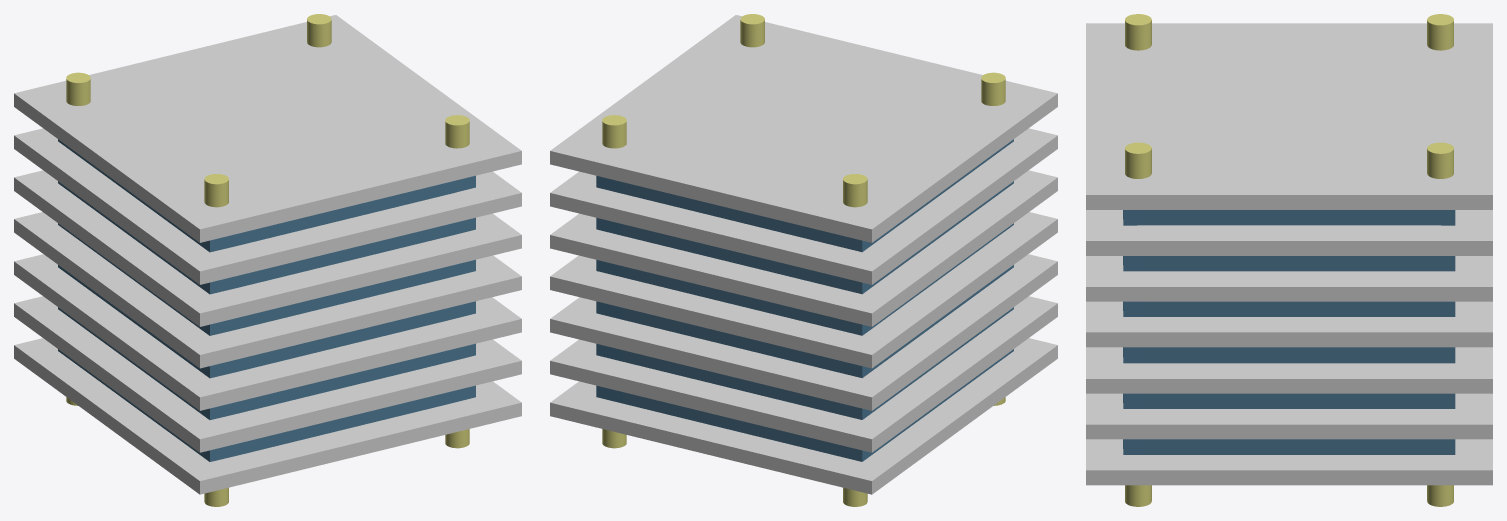
The model's file is building (1).fbx.
The picture shows the model from 3 angles, left to right: view 1: azimuth 30°, elevation 25°; view 2: azimuth 150°, elevation 25°; view 3: azimuth 270°, elevation 25°; orthographic projection. The views are drawn at different scales.
Parts seen in each view (by area): view 1: pCylinder8, pPlane5; view 2: pCylinder8, pPlane5; view 3: pCylinder8, pPlane5.
Boxes of the visible parts, x1,y1,x2,y2 form: pCylinder8: (14, 14, 521, 506); pPlane5: (58, 139, 475, 461); pCylinder8: (550, 14, 1057, 506); pPlane5: (596, 139, 1013, 461); pCylinder8: (1086, 14, 1492, 506); pPlane5: (1123, 210, 1455, 454).
Size of the model in its own units: 3.29 by 3.15 by 3.29.
